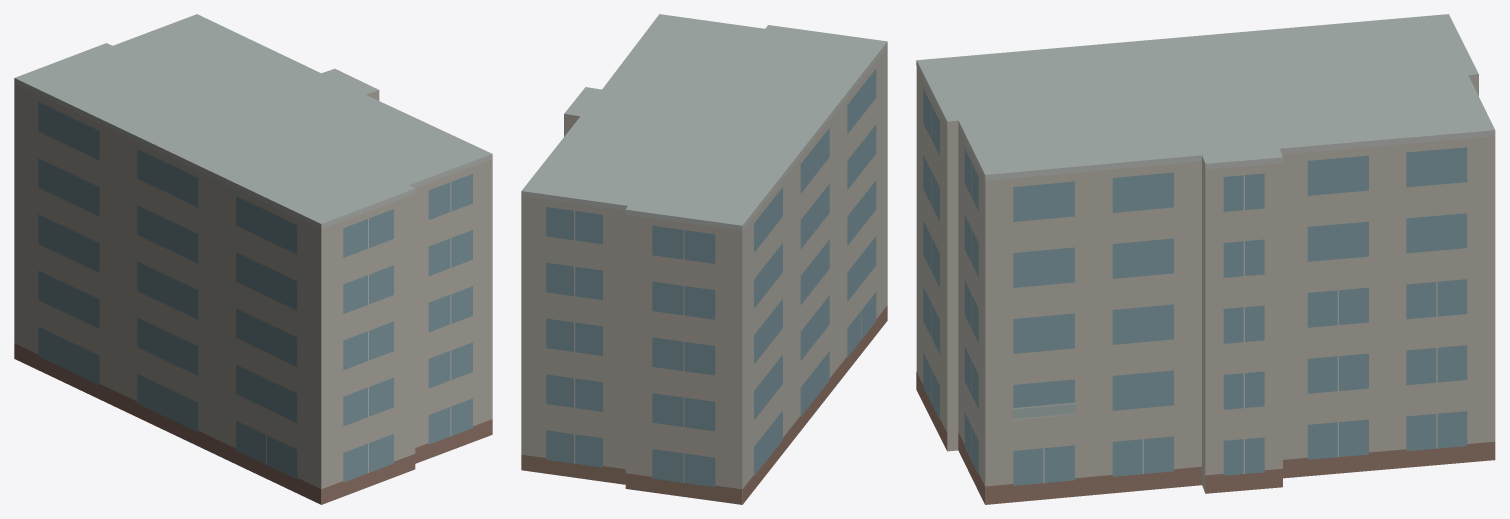
File: survey-upis-32469149.glb
3 renders of one model, left to right at view 1: azimuth 30°, elevation 25°; view 2: azimuth 150°, elevation 25°; view 3: azimuth 270°, elevation 25°, orthographic. The views are drawn at different scales.
Visible parts, largest first — view 1: survey-upis-32469149.tmp; view 2: survey-upis-32469149.tmp; view 3: survey-upis-32469149.tmp.
Part boxes in pixels (left/top/right/bottom): survey-upis-32469149.tmp: left=14, top=14, right=492, bottom=504; survey-upis-32469149.tmp: left=521, top=14, right=887, bottom=504; survey-upis-32469149.tmp: left=916, top=14, right=1495, bottom=504.
Size of the model in its own units: 14.04 by 13.4 by 21.32.
